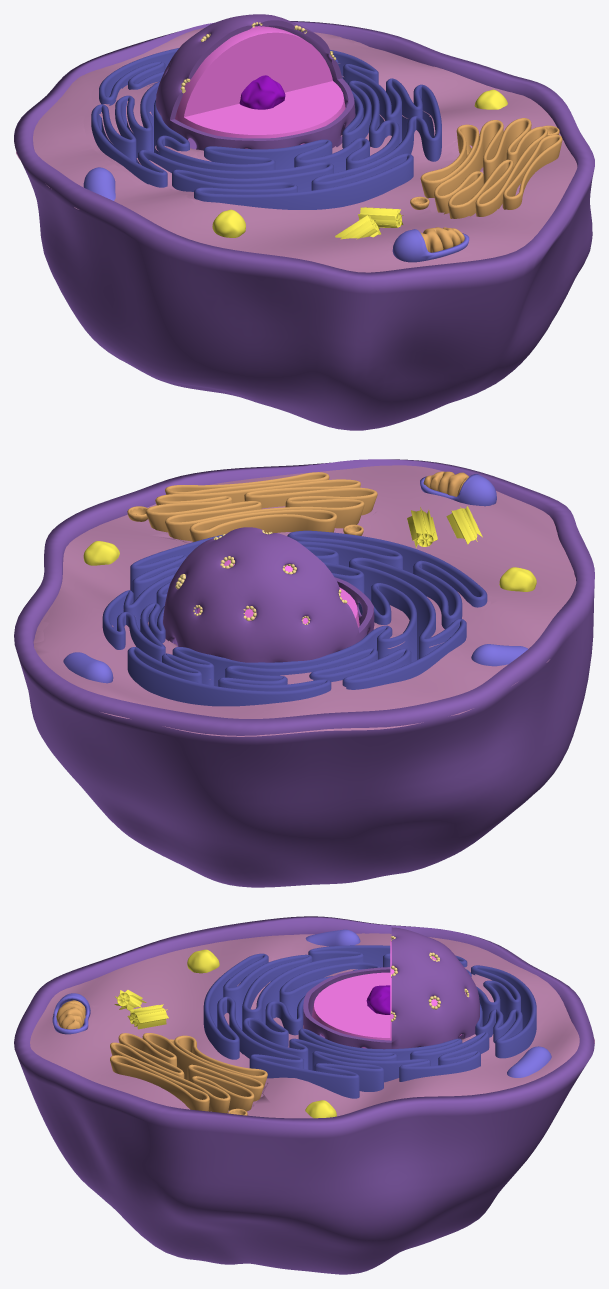
File: animal_cell_final.glb
The picture shows the model from 3 angles, top to bottom: view 1: azimuth 30°, elevation 25°; view 2: azimuth 150°, elevation 25°; view 3: azimuth 270°, elevation 25°; orthographic projection. The views are drawn at different scales.
Parts seen in each view (by area): view 1: CellBody_Outer, Sphere.001, EndoplasmicReticulum, Nucleus_Inner, GolgiApparatus, Nucleus_Outer, CellBody_Inner, Mitochondria_OuterMembrane, Nucleus, Mitochondrion, Lysosome_02, Centrioles_01 (+1 smaller); view 2: CellBody_Outer, Sphere.001, EndoplasmicReticulum, Nucleus_Outer, GolgiApparatus, Mitochondria_OuterMembrane, CellBody_Inner, Centrioles_01, Centrioles_02, Mitochondrion, Lysosome_02, Lysosome_01 (+1 smaller); view 3: CellBody_Outer, Sphere.001, EndoplasmicReticulum, Nucleus_Outer, GolgiApparatus, Nucleus_Inner, Mitochondria_OuterMembrane, Centrioles_01, Mitochondrion, Nucleus, Lysosome_02, CellBody_Inner.
Part boxes in pixels (bbox=[...]): CellBody_Outer: bbox=[14, 21, 594, 430]; Sphere.001: bbox=[16, 28, 577, 272]; EndoplasmicReticulum: bbox=[91, 48, 441, 209]; Nucleus_Inner: bbox=[175, 26, 345, 148]; GolgiApparatus: bbox=[410, 118, 562, 218]; Nucleus_Outer: bbox=[156, 14, 355, 150]; CellBody_Inner: bbox=[83, 38, 565, 253]; Mitochondria_OuterMembrane: bbox=[83, 167, 469, 262]; Nucleus: bbox=[239, 75, 285, 109]; Mitochondrion: bbox=[420, 227, 464, 252]; Lysosome_02: bbox=[212, 209, 245, 237]; Centrioles_01: bbox=[358, 207, 403, 227]; CellBody_Outer: bbox=[14, 459, 594, 887]; Sphere.001: bbox=[34, 465, 576, 736]; EndoplasmicReticulum: bbox=[102, 530, 487, 706]; Nucleus_Outer: bbox=[163, 527, 374, 662]; GolgiApparatus: bbox=[127, 472, 377, 541]; Mitochondria_OuterMembrane: bbox=[63, 474, 527, 683]; CellBody_Inner: bbox=[33, 478, 490, 708]; Centrioles_01: bbox=[407, 507, 437, 547]; Centrioles_02: bbox=[446, 506, 482, 544]; Mitochondrion: bbox=[423, 471, 468, 496]; Lysosome_02: bbox=[499, 567, 536, 591]; Lysosome_01: bbox=[83, 541, 119, 565]; CellBody_Outer: bbox=[14, 916, 594, 1274]; Sphere.001: bbox=[30, 933, 594, 1118]; EndoplasmicReticulum: bbox=[203, 945, 536, 1098]; Nucleus_Outer: bbox=[303, 927, 479, 1049]; GolgiApparatus: bbox=[110, 1033, 267, 1115]; Nucleus_Inner: bbox=[312, 940, 466, 1048]; Mitochondria_OuterMembrane: bbox=[52, 929, 551, 1077]; Centrioles_01: bbox=[127, 1004, 168, 1029]; Mitochondrion: bbox=[56, 1000, 85, 1029]; Nucleus: bbox=[366, 985, 390, 1014]; Lysosome_02: bbox=[187, 949, 219, 973]; CellBody_Inner: bbox=[88, 957, 540, 1111].
Size of the model in its own units: 5.96 by 3.99 by 7.05.
